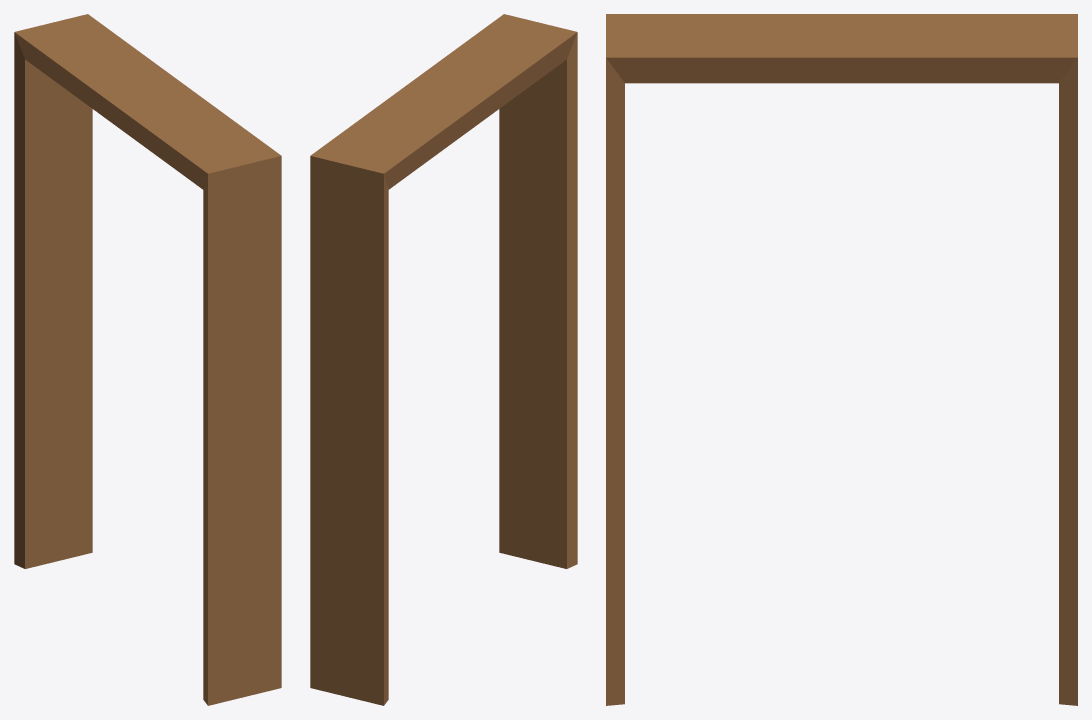
Rendered from MarcoPuerta.obj.
3 renders of one model, left to right at view 1: azimuth 30°, elevation 25°; view 2: azimuth 150°, elevation 25°; view 3: azimuth 270°, elevation 25°, orthographic. The views are drawn at different scales.
Parts seen in each view (by area): view 1: Cube.001; view 2: Cube.001; view 3: Cube.001.
Part boxes in pixels (x1,y1,x2,y2): Cube.001: [14, 14, 281, 705]; Cube.001: [310, 14, 577, 705]; Cube.001: [606, 14, 1077, 705].
Bounding box in the file's own units: 0.2177 × 1.5 × 0.9918.
